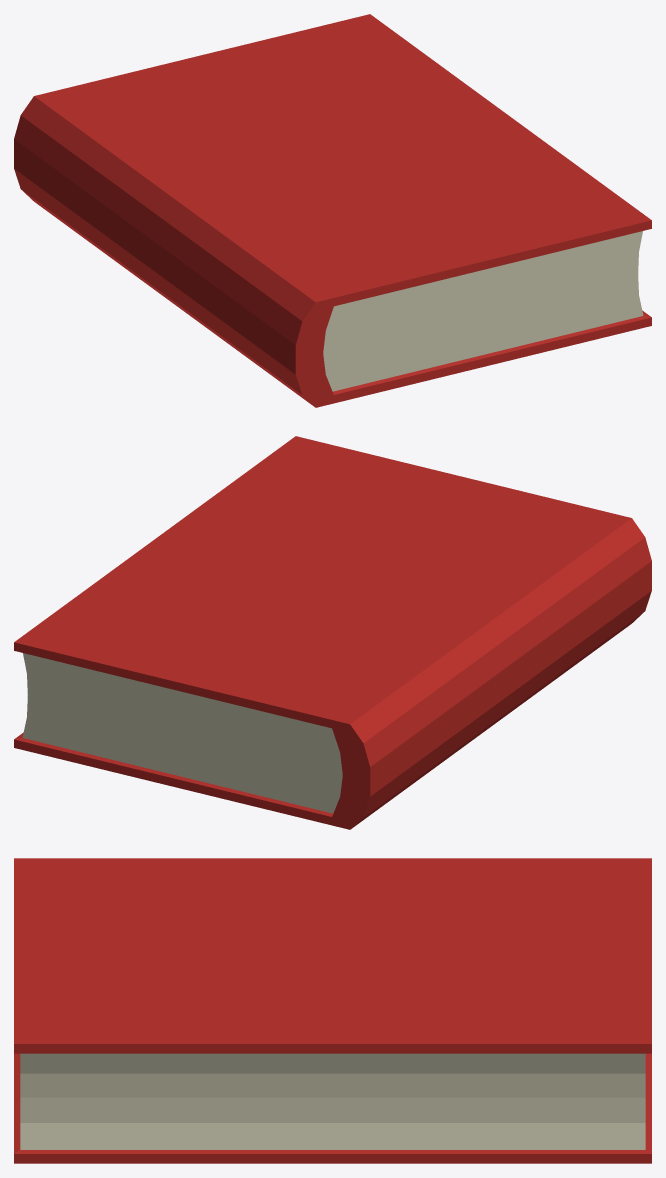
File: 001. Prop Book.fbx
3 renders of one model, top to bottom at view 1: azimuth 30°, elevation 25°; view 2: azimuth 150°, elevation 25°; view 3: azimuth 270°, elevation 25°, orthographic. The views are drawn at different scales.
Visible parts, largest first — view 1: Cube; view 2: Cube; view 3: Cube.
Part boxes in pixels (x1,y1,x2,y2): Cube: [14, 14, 651, 407]; Cube: [14, 436, 651, 829]; Cube: [14, 858, 651, 1163].
Bounding box in the file's own units: 224 × 63.55 × 308.
